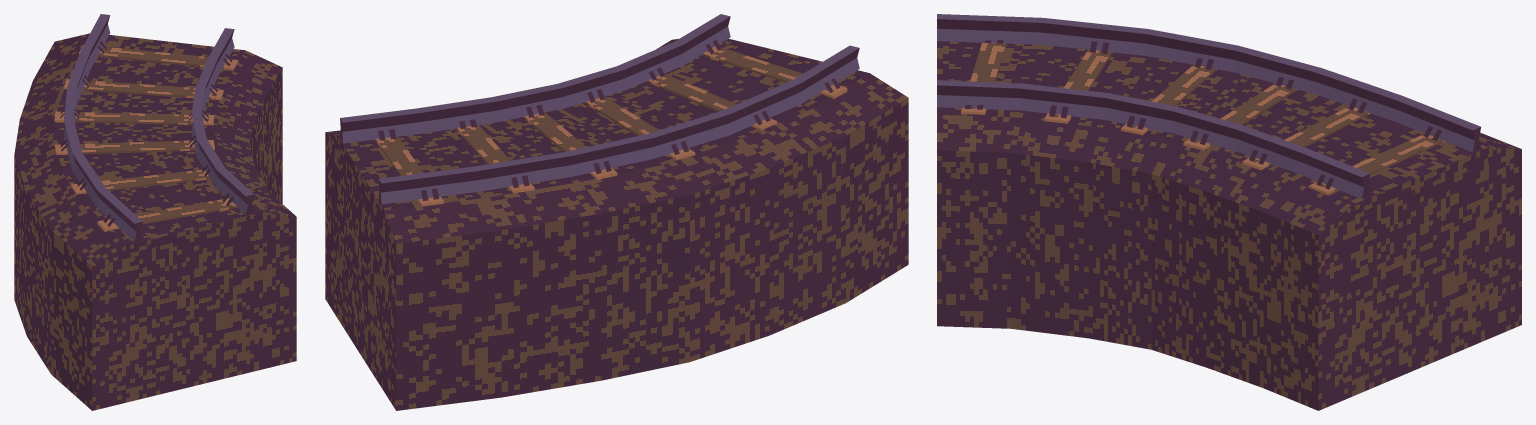
File: track_curve.glb
3 renders of one model, left to right at view 1: azimuth 30°, elevation 25°; view 2: azimuth 150°, elevation 25°; view 3: azimuth 270°, elevation 25°, orthographic. The views are drawn at different scales.
Parts seen in each view (by area): view 1: track_curve; view 2: track_curve; view 3: track_curve.
Part boxes in pixels (bbox=[...]): track_curve: bbox=[14, 14, 296, 410]; track_curve: bbox=[325, 14, 908, 410]; track_curve: bbox=[937, 14, 1521, 410].
Size of the model in its own units: 5.04 by 2.46 by 6.04.
1 material, 1 textured.
